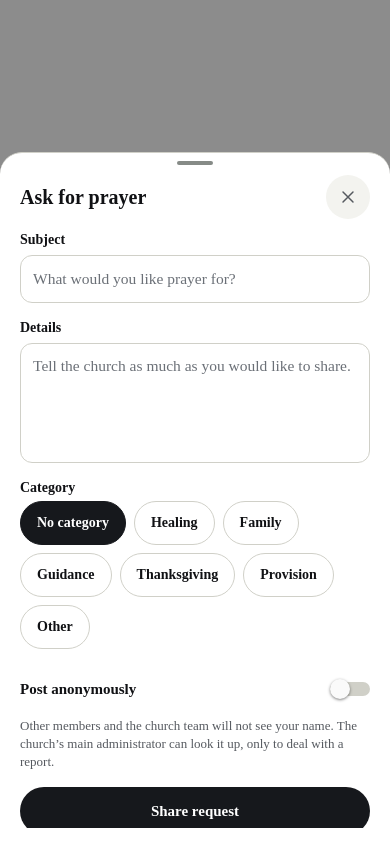
Test: when sending fails › can be tried again, and the notice goes when it works
The width and height of the screenshot is (390, 844).
Type "A" into the field with test id "prayer-form-title".
click(195, 279); type("A")  # box 20,255 -> 370,303
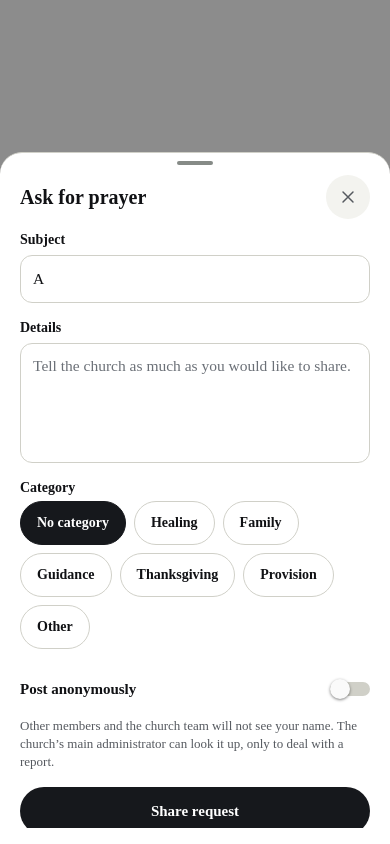
Type "B" into the text box with test id "prayer-form-body".
click(195, 403); type("B")  # box 20,343 -> 370,463
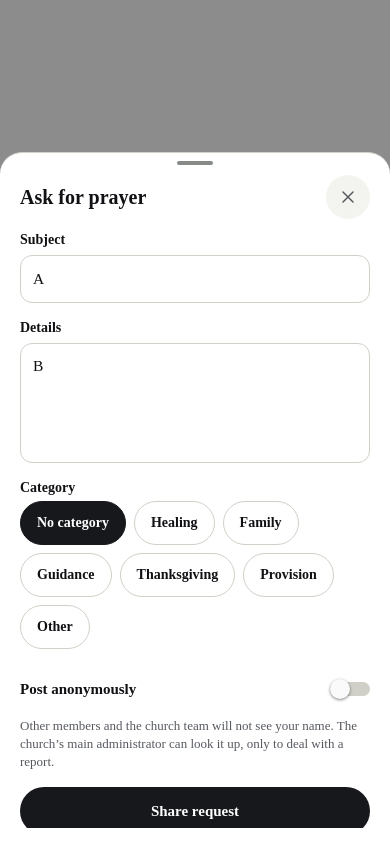
Click the button with test id "prayer-form-submit".
click(195, 811)  # box 20,787 -> 370,835
(page scrolled)
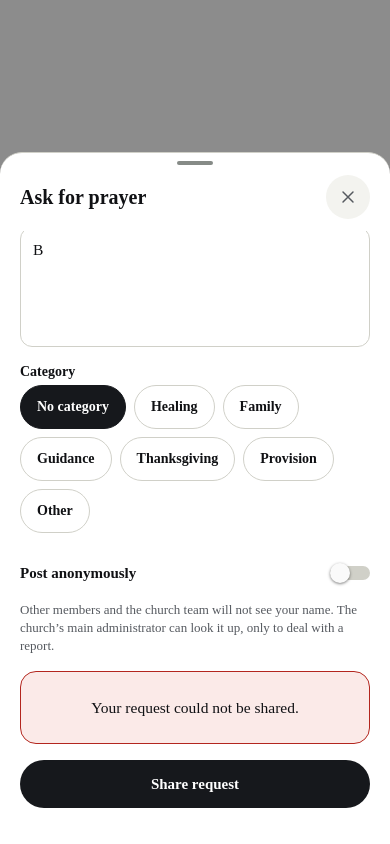
Result: the element with test id "prayer-form-error" is shown at 20,671 -> 370,744
Click the button with test id "prayer-form-submit".
click(195, 784)  # box 20,760 -> 370,808
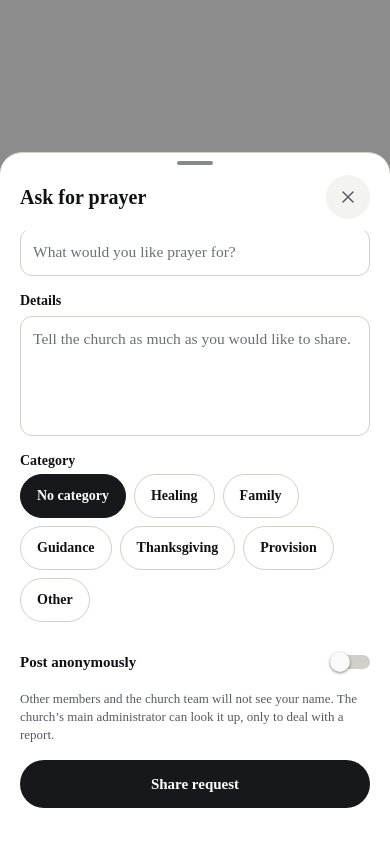
Result: the element with test id "prayer-form-error" is gone
